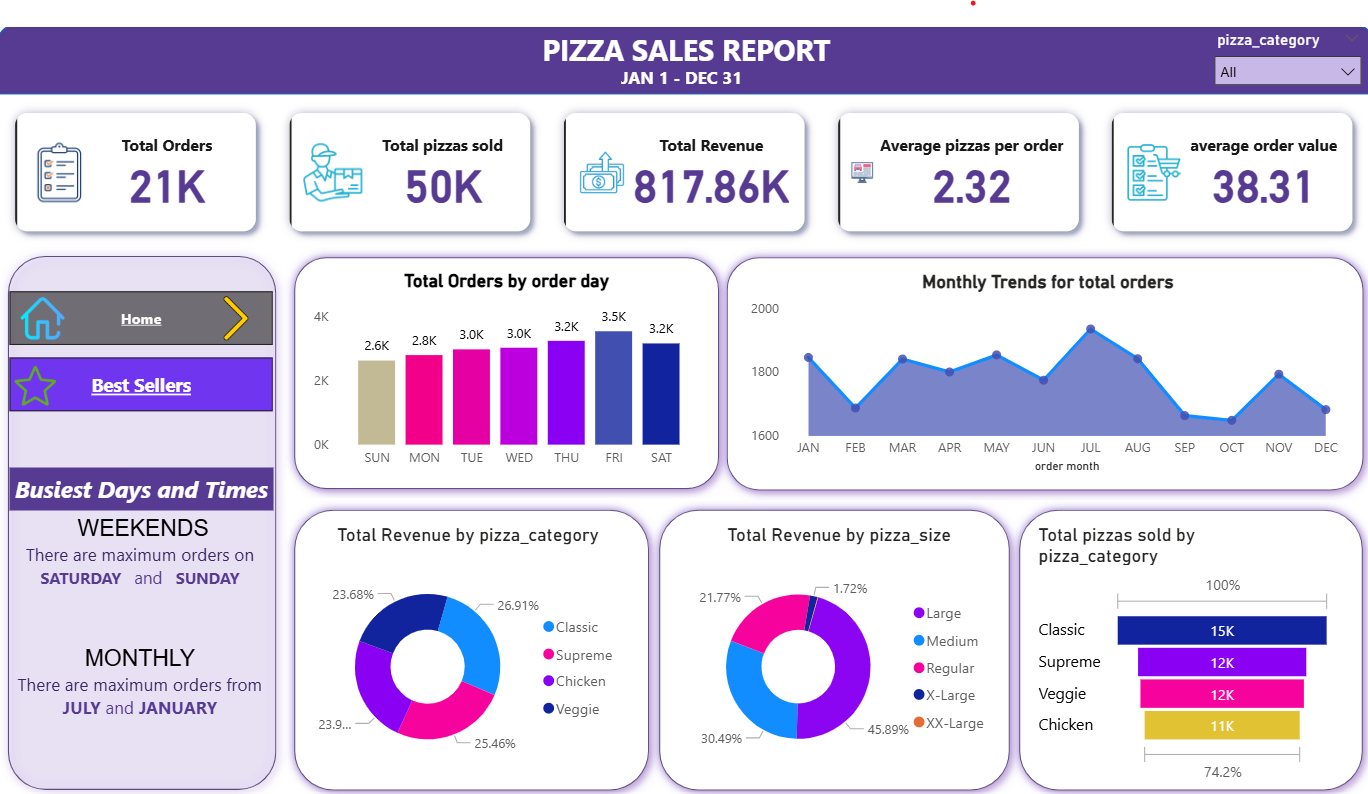

The page's visual inventory and layout, read from the dashboard file:
{"tool":"powerbi","page":{"name":"Home","canvas":[1280,720],"ordinal":0},"visuals":[{"type":"cardVisual","fields":{"Data":["pizza_sales.Total Orders","pizza_sales.Total pizzas sold","pizza_sales.Total Revenue","pizza_sales.Average pizzas per order","pizza_sales.average order value"]},"box":[0,64.7,1280.9,144.1],"z":0},{"type":"shape","box":[0,0,1280.9,64.7],"z":1000},{"type":"textbox","box":[497.4,0,287,45.5],"z":2000},{"type":"textbox","box":[575.3,32.5,132.5,32.5],"z":3000},{"type":"shape","box":[267.6,207.4,413.2,233.8],"z":4000},{"type":"shape","box":[670.1,206.5,610.4,235.1],"z":5000},{"type":"columnChart","fields":{"Category":["pizza_sales.order day"],"Y":["pizza_sales.Total Orders"]},"box":[289.7,227.9,369.1,192.6],"z":6000},{"type":"shape","box":[267.5,441.6,348.1,279.2],"z":7000},{"type":"areaChart","title":"Monthly Trends for total orders","fields":{"Category":["pizza_sales.order month"],"Y":["pizza_sales.Total Orders"]},"box":[696.1,228.6,562.3,192.2],"z":8000},{"type":"shape","box":[606.5,441.6,344.2,279.2],"z":9000},{"type":"shape","box":[941.6,441.6,337.7,279.2],"z":10000},{"type":"donutChart","fields":{"Category":["pizza_sales.pizza_category"],"Y":["pizza_sales.Total Revenue"]},"box":[289.6,463.6,297.4,245.5],"z":11000},{"type":"donutChart","fields":{"Y":["pizza_sales.Total Revenue"],"Category":["pizza_sales.pizza_size"]},"box":[635.1,463.6,297.4,245.5],"z":12000},{"type":"funnel","fields":{"Category":["pizza_sales.pizza_category"],"Y":["pizza_sales.Total pizzas sold"]},"box":[963.6,463.6,283.1,245.5],"z":13000},{"type":"shape","box":[1.5,205.9,267.6,514.7],"z":14000},{"type":"textbox","box":[11.8,411.8,245.6,39.7],"z":15000},{"type":"textbox","box":[11.8,451.5,242.6,233.8],"z":16000},{"type":"slicer","fields":{"Values":["pizza_sales.pizza_category"]},"box":[1122.1,0,157.4,64.7],"z":17000},{"type":"pageNavigator","box":[11.7,248.1,245.5,50.6],"z":18000},{"type":"pageNavigator","box":[11.7,309.1,245.5,50.6],"z":19000},{"type":"image","box":[190.9,248.1,63.6,50.6],"z":20000},{"type":"image","box":[11.7,248.1,61,50.6],"z":21000},{"type":"image","box":[11.7,311.7,48.1,48.1],"z":22000}]}

Visuals, with their boxes on the page's 1280x720 design canvas (x1, y1, x2, y2). These are canvas units, not pixel positions in the 1368x794 screenshot, which may show the page scaled, cropped or inside an application window:
cardVisual - pizza_sales.Total Orders x pizza_sales.Total pizzas sold: Rect(0, 65, 1281, 209)
shape: Rect(0, 0, 1281, 65)
textbox: Rect(497, 0, 784, 46)
textbox: Rect(575, 32, 708, 65)
shape: Rect(268, 207, 681, 441)
shape: Rect(670, 206, 1280, 442)
columnChart - pizza_sales.order day x pizza_sales.Total Orders: Rect(290, 228, 659, 420)
shape: Rect(268, 442, 616, 721)
"Monthly Trends for total orders" areaChart: Rect(696, 229, 1258, 421)
shape: Rect(606, 442, 951, 721)
shape: Rect(942, 442, 1279, 721)
donutChart - pizza_sales.pizza_category x pizza_sales.Total Revenue: Rect(290, 464, 587, 709)
donutChart - pizza_sales.Total Revenue x pizza_sales.pizza_size: Rect(635, 464, 932, 709)
funnel - pizza_sales.pizza_category x pizza_sales.Total pizzas sold: Rect(964, 464, 1247, 709)
shape: Rect(2, 206, 269, 721)
textbox: Rect(12, 412, 257, 452)
textbox: Rect(12, 452, 254, 685)
slicer - pizza_sales.pizza_category: Rect(1122, 0, 1280, 65)
pageNavigator: Rect(12, 248, 257, 299)
pageNavigator: Rect(12, 309, 257, 360)
image: Rect(191, 248, 254, 299)
image: Rect(12, 248, 73, 299)
image: Rect(12, 312, 60, 360)
